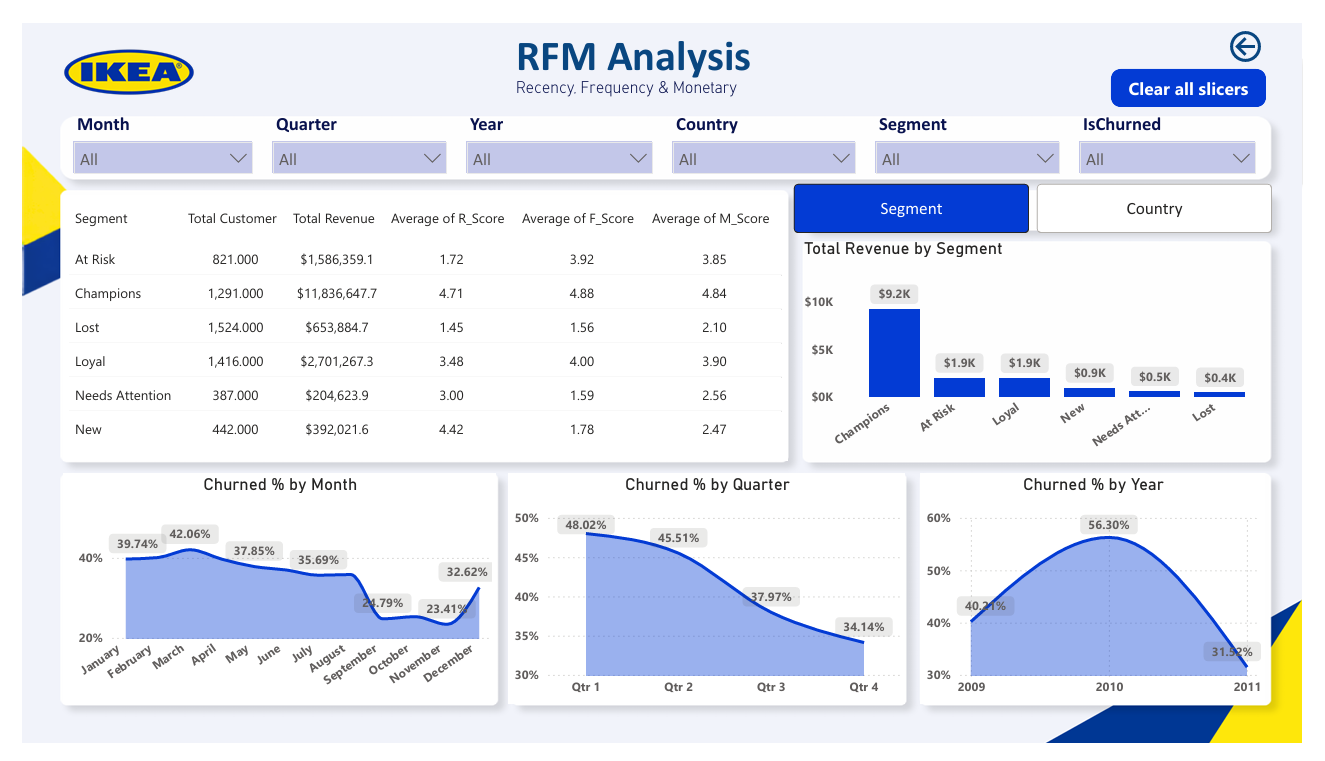

The page's visual inventory and layout, read from the dashboard file:
{"tool":"powerbi","page":{"name":"RFM Analysis","canvas":[1280,720],"ordinal":2},"visuals":[{"type":"textbox","box":[487.9,0,277.6,65.5],"z":0},{"type":"textbox","box":[487.9,48.3,253.4,34.5],"z":1},{"type":"image","box":[39.7,0,132.8,96.6],"z":2},{"type":"actionButton","box":[1201.7,0,41.4,44.8],"z":4},{"type":"actionButton","box":[1087.9,44.8,155.2,37.9],"z":5},{"type":"slicer","fields":{"Values":["Sheet1.InvoiceDate.Variation.Date Hierarchy.Month"]},"box":[41.4,82.8,198.3,72.4],"z":6},{"type":"slicer","fields":{"Values":["Sheet1.InvoiceDate.Variation.Date Hierarchy.Quarter"]},"box":[239.7,82.8,194.8,72.4],"z":7},{"type":"slicer","fields":{"Values":["Sheet1.InvoiceDate.Variation.Date Hierarchy.Year"]},"box":[434.5,82.8,205.2,72.4],"z":8},{"type":"slicer","fields":{"Values":["Sheet1.Country"]},"box":[639.7,82.8,203.4,72.4],"z":9},{"type":"slicer","fields":{"Values":["Sheet1.Segment"]},"box":[843.1,82.8,203.4,72.4],"z":10},{"type":"slicer","fields":{"Values":["Sheet1.IsChurned"]},"box":[1046.6,82.8,196.6,72.4],"z":11},{"type":"tableEx","fields":{"Values":["Sheet1.Segment","Sheet1.Total Customer","Sheet1.Total Revenue","Avg(Sheet1.R_Score)","Avg(Sheet1.F_Score)","Avg(Sheet1.M_Score)"]},"box":[41.4,172.4,724.1,265.5],"z":12},{"type":"advancedSlicerVisual","fields":{"Values":["Dimension Toggle.Dimension Toggle"]},"box":[765.5,155.2,489.7,58.6],"z":13},{"type":"clusteredColumnChart","title":"Total Revenue by Segment","fields":{"Category":["Sheet1.Segment"],"Y":["Sheet1.Avg Customer Value"]},"box":[775.9,213.8,479.3,224.1],"z":14},{"type":"lineChart","title":"Churned % by Month","fields":{"Y":["Sheet1.Churned %"],"Category":["Sheet1.InvoiceDate.Variation.Date Hierarchy.Month"]},"box":[41.4,450,432.8,231],"z":15},{"type":"lineChart","title":"Churned % by Quarter","fields":{"Category":["Sheet1.InvoiceDate.Variation.Date Hierarchy.Quarter"],"Y":["Sheet1.Churned %"]},"box":[486.2,450,396.6,231],"z":16},{"type":"lineChart","title":"Churned % by Year","fields":{"Category":["Sheet1.InvoiceDate.Variation.Date Hierarchy.Year"],"Y":["Sheet1.Churned %"]},"box":[898.3,450,344.8,231],"z":17}]}

Visuals, with their boxes in screenshot pixels (x1, y1, x2, y2), scaled from the page's 1280x720 canvas onto the 1325x761 screenshot:
textbox: 505:0:792:69
textbox: 505:51:767:88
image: 41:0:179:102
actionButton: 1244:0:1287:47
actionButton: 1126:47:1287:87
slicer - Sheet1.InvoiceDate.Variation.Date Hierarchy.Month: 43:88:248:164
slicer - Sheet1.InvoiceDate.Variation.Date Hierarchy.Quarter: 248:88:450:164
slicer - Sheet1.InvoiceDate.Variation.Date Hierarchy.Year: 450:88:662:164
slicer - Sheet1.Country: 662:88:873:164
slicer - Sheet1.Segment: 873:88:1083:164
slicer - Sheet1.IsChurned: 1083:88:1287:164
tableEx - Sheet1.Segment x Sheet1.Total Customer: 43:182:792:463
advancedSlicerVisual - Dimension Toggle.Dimension Toggle: 792:164:1299:226
"Total Revenue by Segment" clusteredColumnChart: 803:226:1299:463
"Churned % by Month" lineChart: 43:476:491:720
"Churned % by Quarter" lineChart: 503:476:914:720
"Churned % by Year" lineChart: 930:476:1287:720
